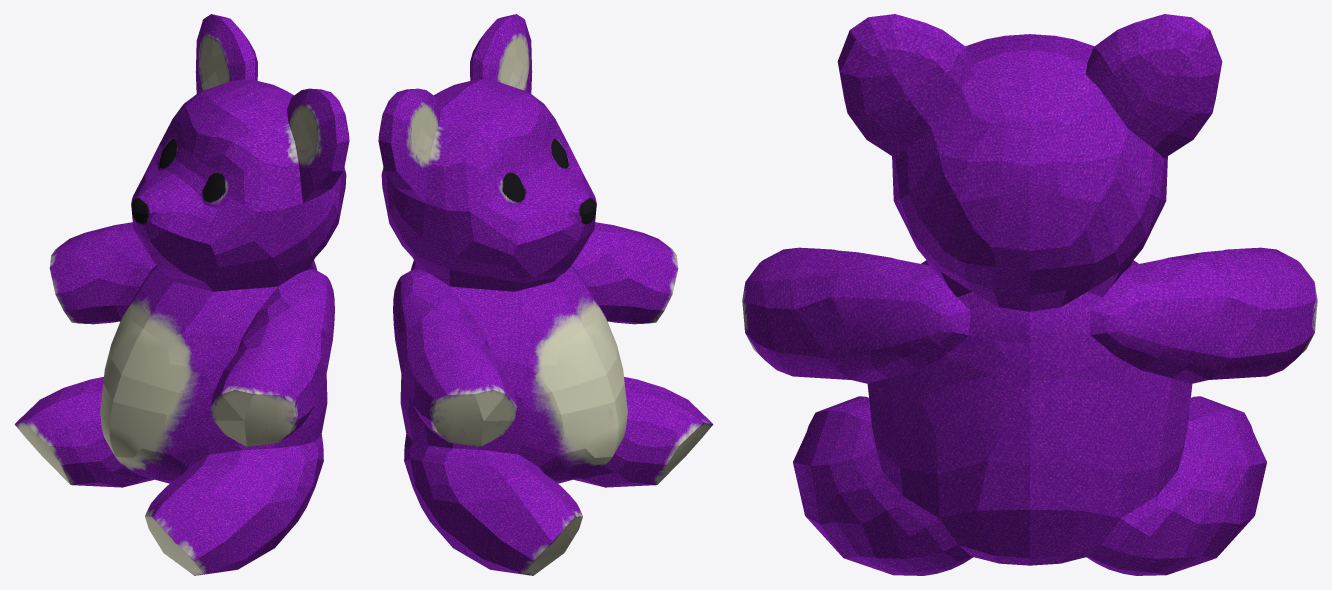
The model's file is SM_Purple_Teddy_Bear.fbx.
3 renders of one model, left to right at view 1: azimuth 30°, elevation 25°; view 2: azimuth 150°, elevation 25°; view 3: azimuth 270°, elevation 25°, orthographic. The views are drawn at different scales.
Visible parts, largest first — view 1: Bear_Purple; view 2: Bear_Purple; view 3: Bear_Purple.
Boxes of the visible parts, x1,y1,x2,y2 form: Bear_Purple: [14, 14, 349, 575]; Bear_Purple: [378, 14, 713, 575]; Bear_Purple: [742, 14, 1317, 575].
Bounding box in the file's own units: 10.16 × 15.21 × 17.67.
Materials: 1 (1 with a texture image).
